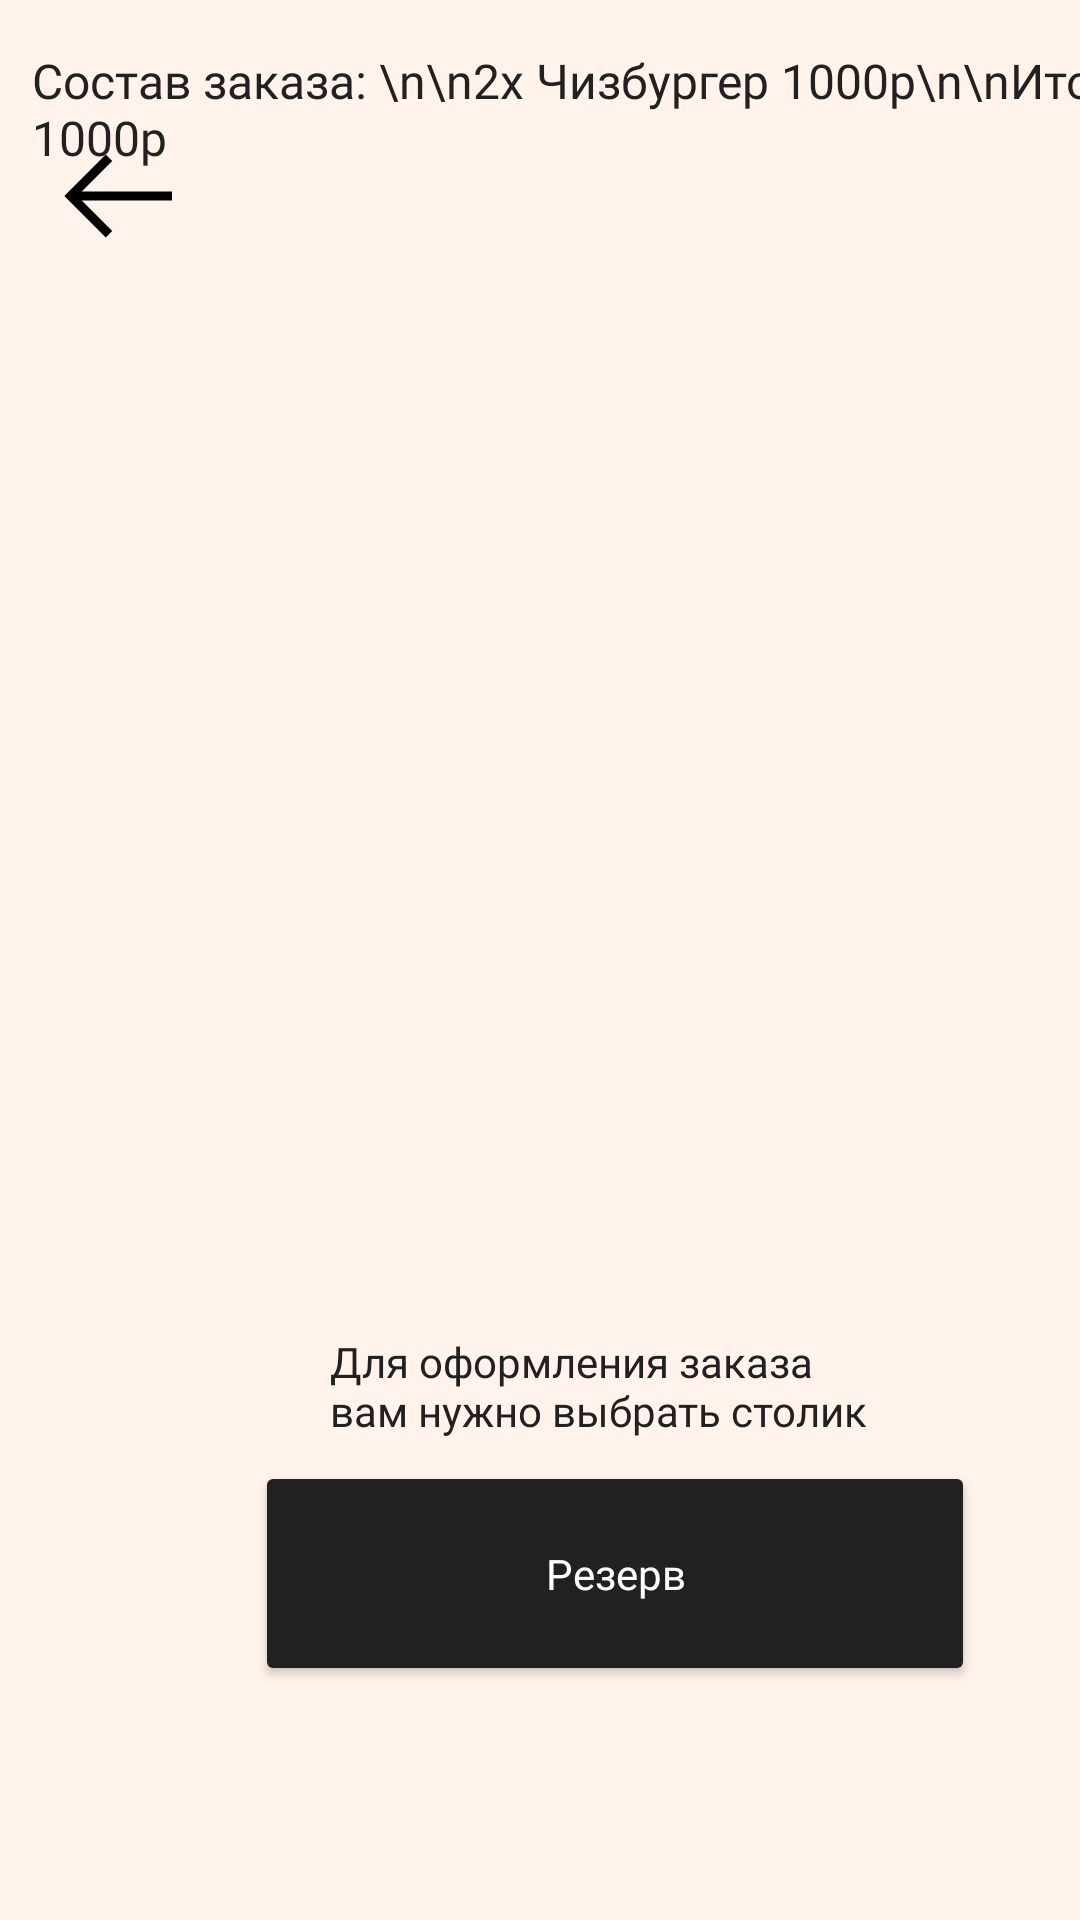

Named icons in this screenshot (1080x1920) and their centers, point (x, y):
back: point (116, 181)
